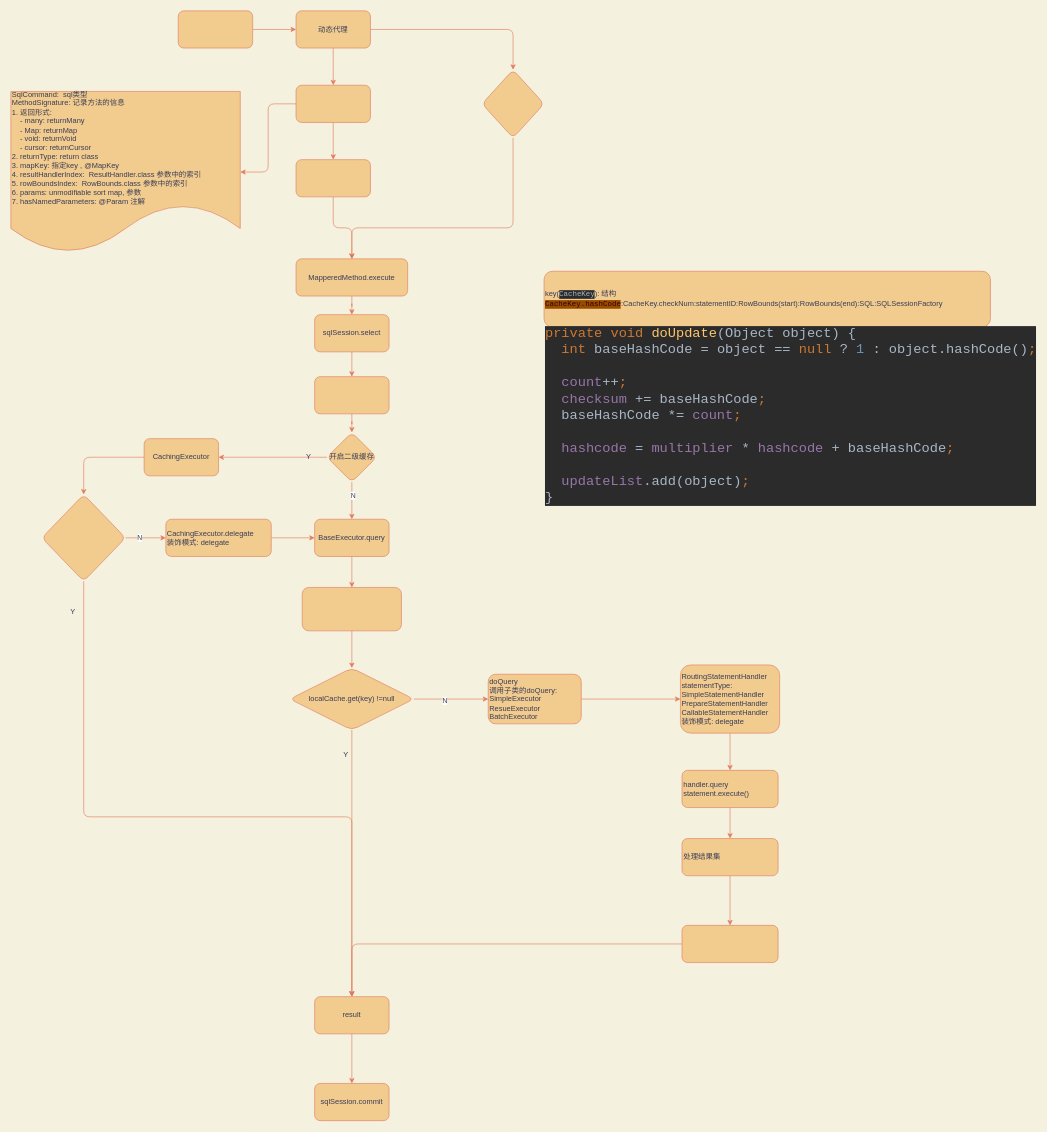
The diagram is 1047 pixels wide and 1132 high, and some of its shapes have lost their labels. The centre of each missing label's shape, as x and y in pixels:
cache != null && flushCache = false && cache.get(key) != null: (83,537)
MappedStatement: (351,395)
Mapper Interface: (215,29)
MapperedMethod: (332,103)
mechodCache填充: (332,178)
methodCache中存在: (512,103)
plushCache clearLocalCache 注: 一级缓存:localCache: (351,609)
put cache: (729,944)
